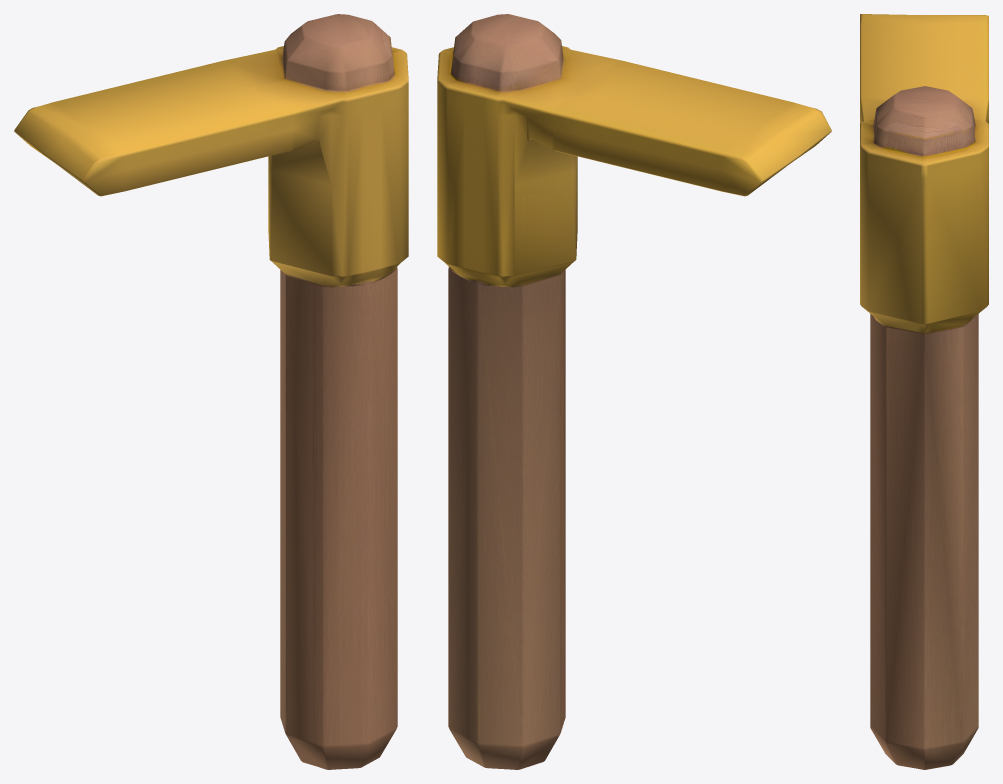
The model's file is Hoe_Gold.fbx.
3 views of the same model, side by side, from view 1: azimuth 30°, elevation 25°; view 2: azimuth 150°, elevation 25°; view 3: azimuth 270°, elevation 25° (orthographic). The views are drawn at different scales.
Parts seen in each view (by area): view 1: Mesh_0; view 2: Mesh_0; view 3: Mesh_0.
Part boxes in pixels (x1,y1,x2,y2): Mesh_0: [14, 14, 408, 769]; Mesh_0: [437, 14, 831, 769]; Mesh_0: [860, 14, 988, 769].
Bounding box in the file's own units: 99.02 × 191 × 34.05.
1 material, 1 textured.
